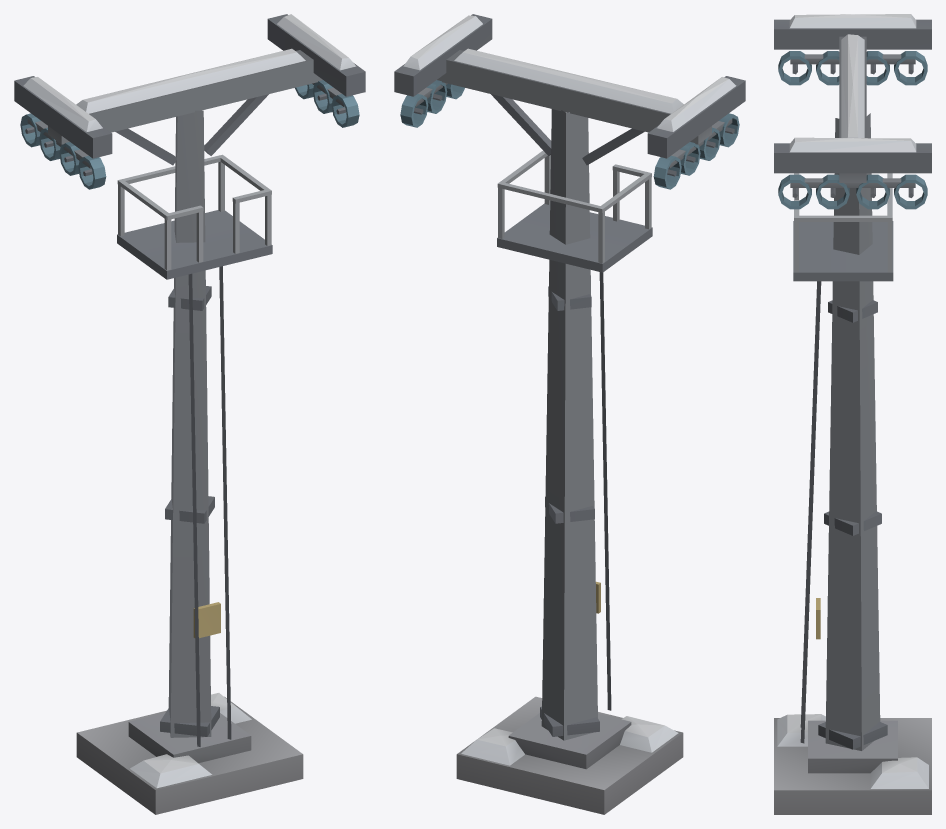
The model's file is pylon.lod1.glb.
3 renders of one model, left to right at view 1: azimuth 30°, elevation 25°; view 2: azimuth 150°, elevation 25°; view 3: azimuth 270°, elevation 25°, orthographic.
Size of the model in its own units: 3.92 by 9.64 by 1.96.
